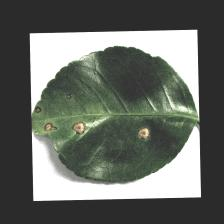canker: (34, 82, 158, 159)
